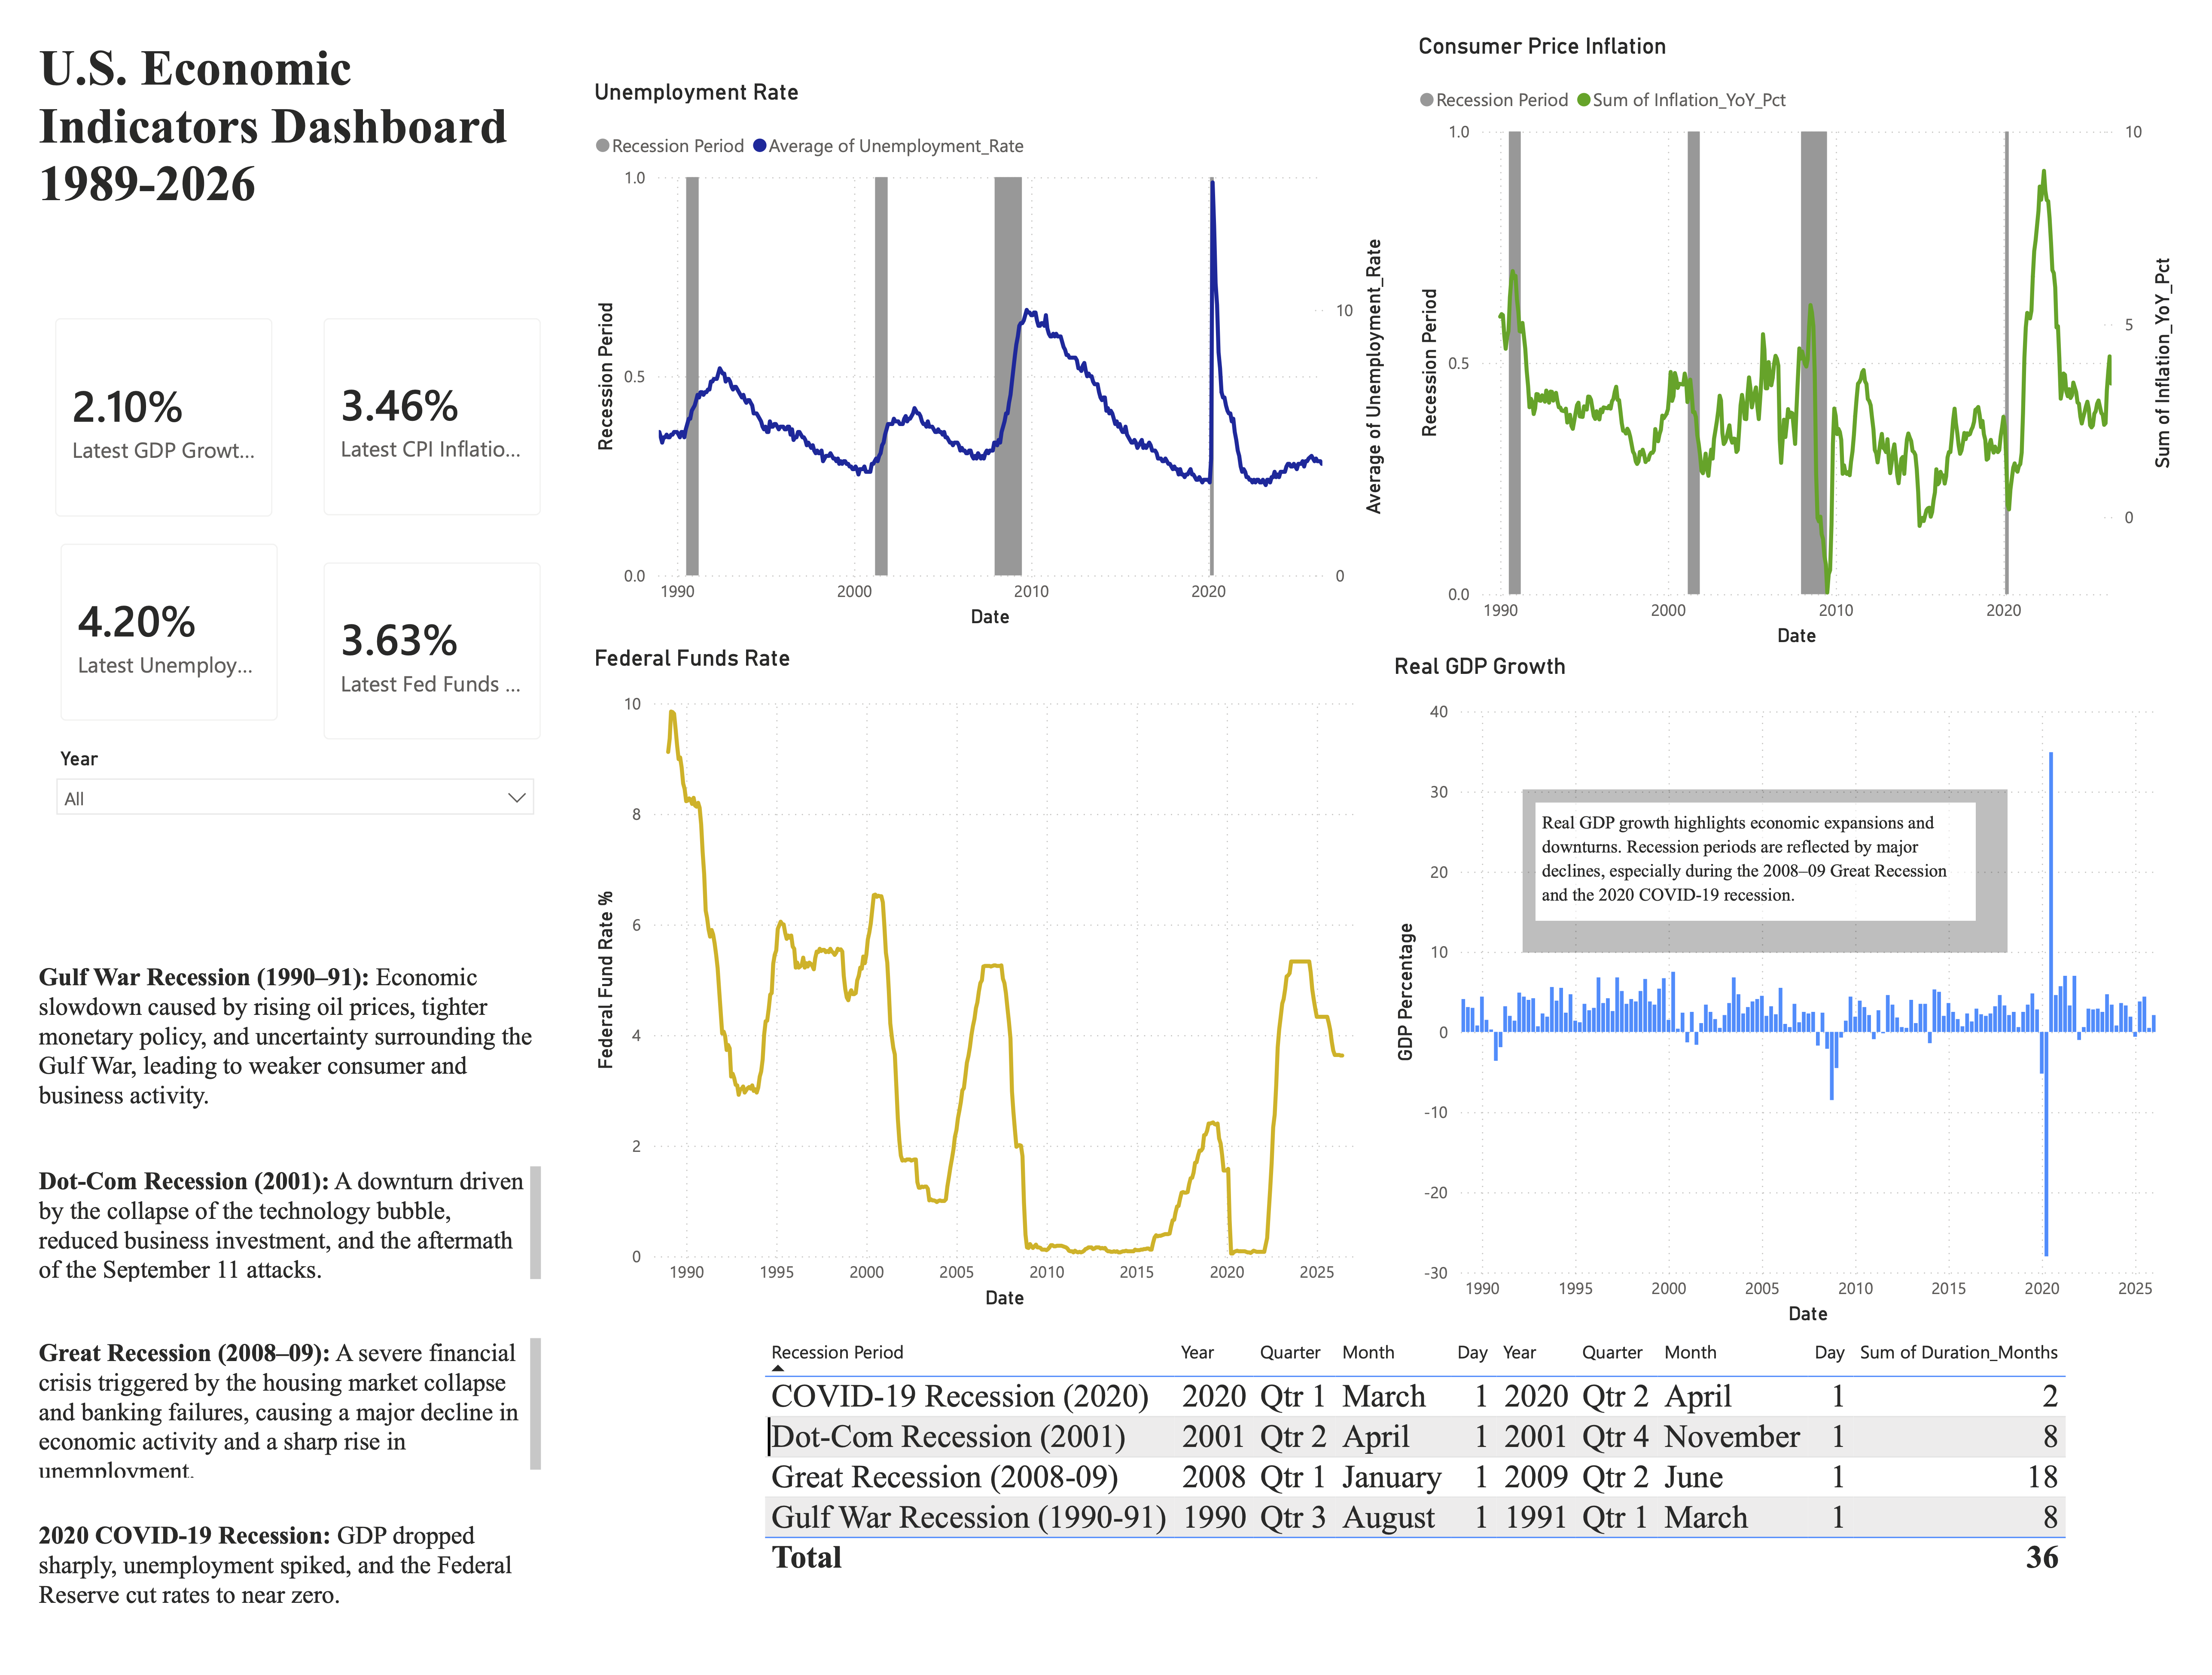

Layout of this report page (visuals, bound fields, positions):
{"tool":"powerbi","page":{"name":"Page 1","canvas":[1600,1200],"ordinal":0},"visuals":[{"type":"cardVisual","fields":{"Data":["Unemployment_Rate.Latest Unemployment Rate Display"]},"box":[4,364,196,166],"z":0},{"type":"cardVisual","fields":{"Data":["CPI_Inflation.Latest CPI Inflation YoY Display"]},"box":[200,196,196.6,181.2],"z":1000},{"type":"cardVisual","fields":{"Data":["Fed_Funds_Rate.Latest Fed Funds Rate Display"]},"box":[200,378,196,166],"z":2000},{"type":"lineClusteredColumnComboChart","title":"Unemployment Rate","fields":{"Category":["Date_Dim.Date"],"Y":["Sum(Date_Dim.Is_Recession)"],"Y2":["Avg(Unemployment_Rate.Unemployment_Rate)"]},"box":[414,34,598,414],"z":3000},{"type":"lineClusteredColumnComboChart","title":"Consumer Price Inflation","fields":{"Category":["Date_Dim.Date.Variation.Date Hierarchy.Year"],"Y":["Sum(Date_Dim.Is_Recession)"],"Y2":["Sum(CPI_Inflation.Inflation_YoY_Pct)"]},"box":[1028,0,572,462],"z":4000},{"type":"lineChart","title":"Federal Funds Rate ","fields":{"Category":["Date_Dim.Date.Variation.Date Hierarchy.Year"],"Y":["Sum(Fed_Funds_Rate.Fed_Funds_Rate)"]},"box":[414,456,580,500],"z":5000},{"type":"lineClusteredColumnComboChart","title":"Real GDP Growth","fields":{"Category":["Date_Dim.Date.Variation.Date Hierarchy.Year"],"Y":["Sum(GDP_Growth.GDP_Growth_Pct)"]},"box":[1010,462,590,506],"z":6000},{"type":"slicer","fields":{"Values":["Date_Dim.Year"]},"box":[8,528,376,178],"z":7000},{"type":"cardVisual","fields":{"Data":["GDP_Growth.Latest GDP Growth Display"]},"box":[0,196,196,182],"z":8000},{"type":"textbox","box":[0,1104,396,90],"z":9000},{"type":"tableEx","fields":{"Values":["Recession_Periods.Recession_Name","Recession_Periods.Start_Date.Variation.Date Hierarchy.Year","Recession_Periods.Start_Date.Variation.Date Hierarchy.Quarter","Recession_Periods.Start_Date.Variation.Date Hierarchy.Month","Recession_Periods.Start_Date.Variation.Date Hierarchy.Day","Recession_Periods.End_Date.Variation.Date Hierarchy.Year","Recession_Periods.End_Date.Variation.Date Hierarchy.Quarter","Recession_Periods.End_Date.Variation.Date Hierarchy.Month","Recession_Periods.End_Date.Variation.Date Hierarchy.Day","Sum(Recession_Periods.Duration_Months)"]},"box":[540,968,1040,226],"z":10000},{"type":"textbox","box":[0,0,414,196],"z":11000},{"type":"textbox","box":[0,688,384,134],"z":12000},{"type":"textbox","box":[0,840,384,96],"z":13000},{"type":"textbox","box":[0,968,384,114],"z":14000},{"type":"textbox","box":[1120,574,328,88],"z":16000}]}

Visuals, with their boxes on the page's 1600x1200 design canvas (x1, y1, x2, y2). These are canvas units, not pixel positions in the 2212x1675 screenshot, which may show the page scaled, cropped or inside an application window:
cardVisual - Unemployment_Rate.Latest Unemployment Rate Display: 4 364 200 530
cardVisual - CPI_Inflation.Latest CPI Inflation YoY Display: 200 196 397 377
cardVisual - Fed_Funds_Rate.Latest Fed Funds Rate Display: 200 378 396 544
"Unemployment Rate" lineClusteredColumnComboChart: 414 34 1012 448
"Consumer Price Inflation" lineClusteredColumnComboChart: 1028 0 1600 462
"Federal Funds Rate " lineChart: 414 456 994 956
"Real GDP Growth" lineClusteredColumnComboChart: 1010 462 1600 968
slicer - Date_Dim.Year: 8 528 384 706
cardVisual - GDP_Growth.Latest GDP Growth Display: 0 196 196 378
textbox: 0 1104 396 1194
tableEx - Recession_Periods.Recession_Name x Recession_Periods.Start_Date.Variation.Date Hierarchy.Year: 540 968 1580 1194
textbox: 0 0 414 196
textbox: 0 688 384 822
textbox: 0 840 384 936
textbox: 0 968 384 1082
textbox: 1120 574 1448 662
